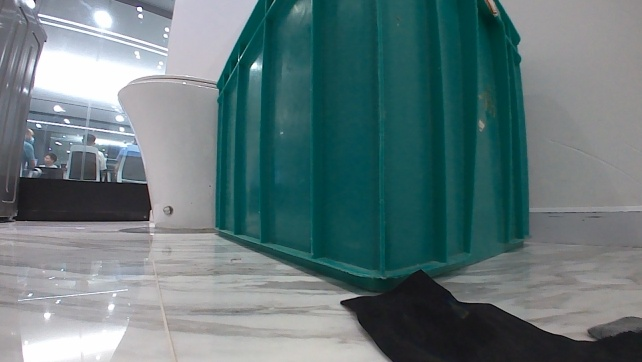socks: (337, 266, 641, 361)
toilet: (115, 74, 221, 232)
